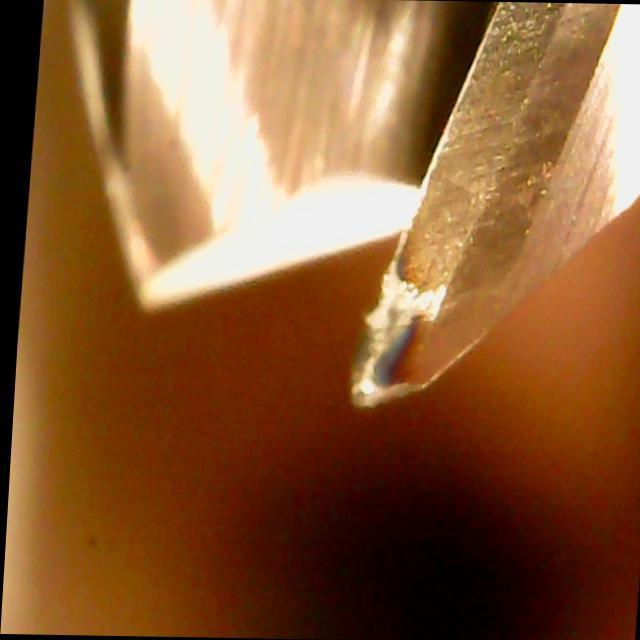Tool-wear-class-1: (328, 82, 549, 413)
